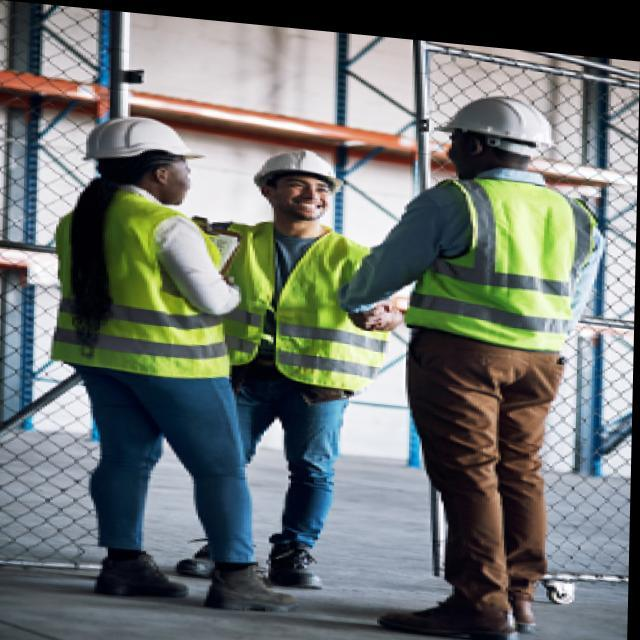hard_hat: (82, 108, 208, 210), (429, 88, 558, 185), (242, 143, 343, 229)
shoes: (91, 542, 305, 621), (374, 569, 542, 640), (175, 523, 329, 595)
vest: (44, 179, 246, 387), (396, 165, 606, 362), (202, 212, 394, 400)
